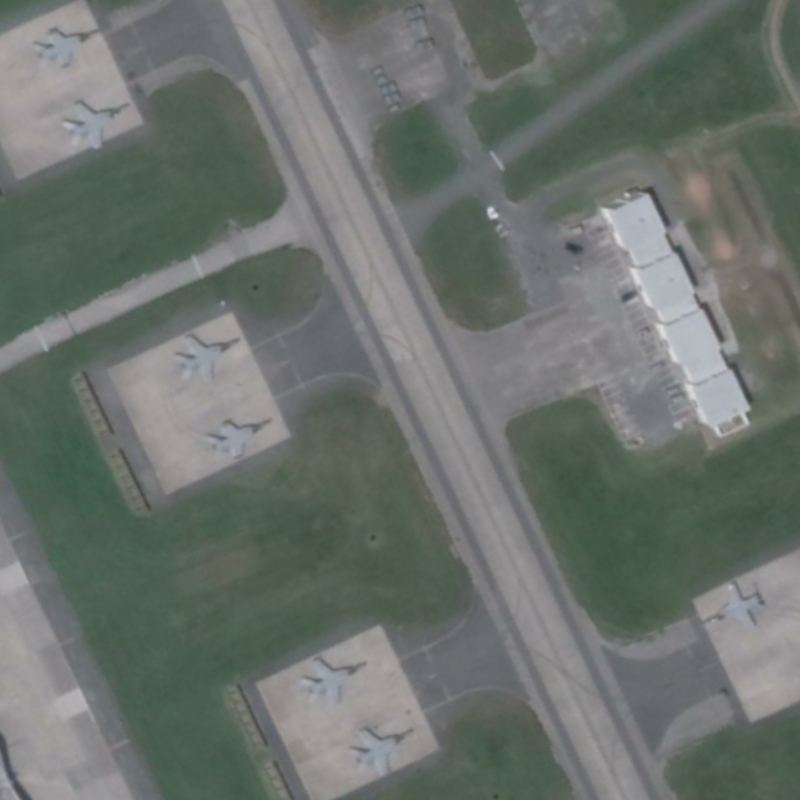A16: (162, 326, 249, 388), (54, 89, 134, 156), (26, 18, 113, 75), (343, 721, 422, 778), (696, 572, 764, 637), (293, 652, 372, 705), (196, 411, 276, 463)
